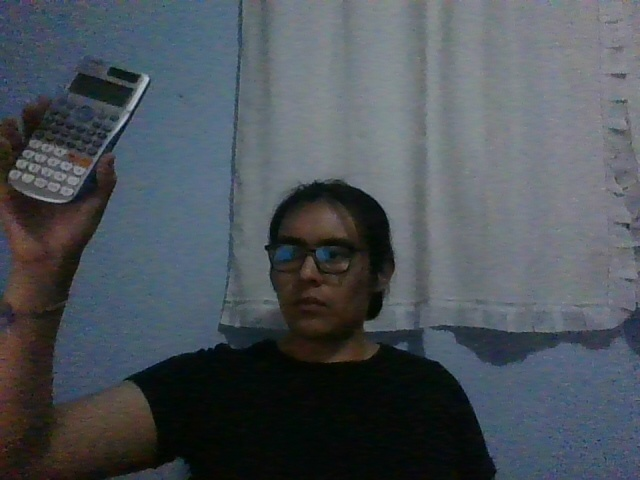calculadora: (5, 59, 152, 204)
